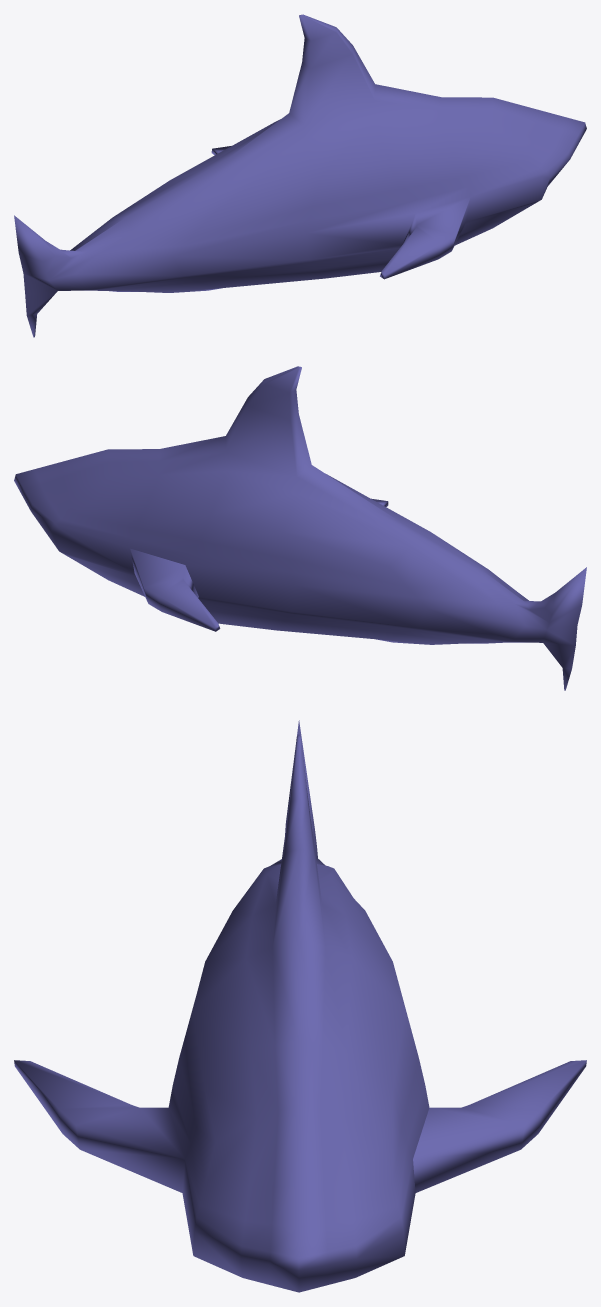
Rendered from squalo finale.fbx.
3 views of the same model, one above another, from view 1: azimuth 30°, elevation 25°; view 2: azimuth 150°, elevation 25°; view 3: azimuth 270°, elevation 25° (orthographic). The views are drawn at different scales.
Visible parts, largest first — view 1: Squalo; view 2: Squalo; view 3: Squalo.
Boxes of the visible parts, left/top/right/bottom form: Squalo: left=14, top=14, right=586, bottom=337; Squalo: left=14, top=366, right=586, bottom=690; Squalo: left=14, top=720, right=586, bottom=1292.
Bounding box in the file's own units: 894 × 390 × 468.
